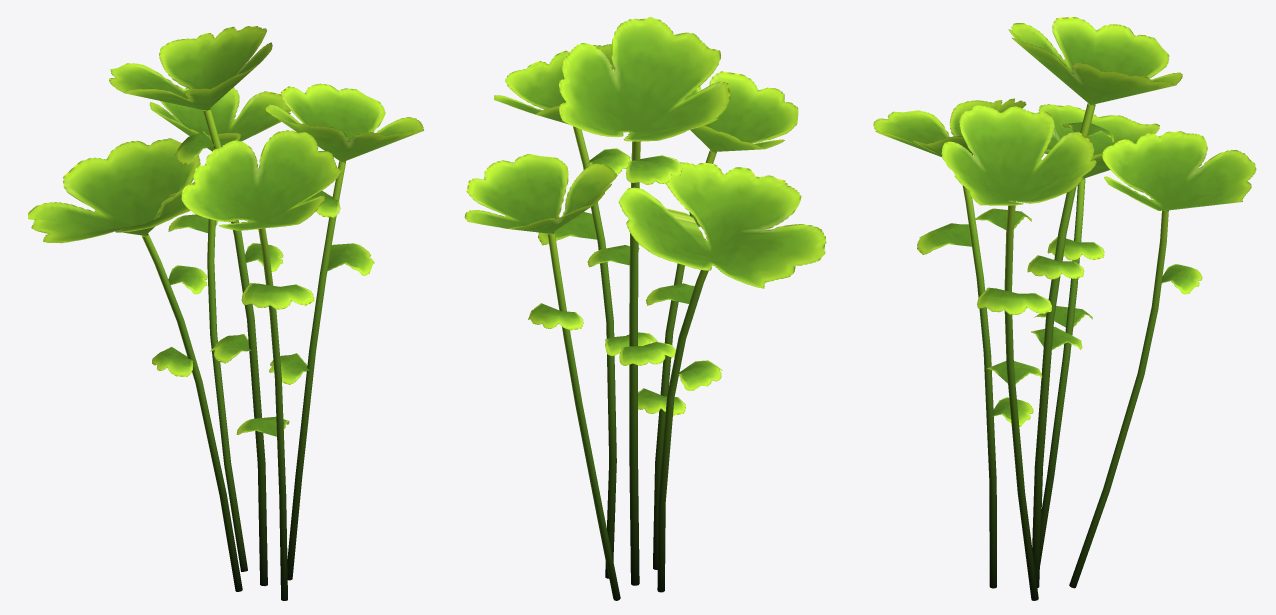
Rendered from clover_2.glb.
The picture shows the model from 3 angles, left to right: view 1: azimuth 30°, elevation 25°; view 2: azimuth 150°, elevation 25°; view 3: azimuth 270°, elevation 25°; orthographic projection. The views are drawn at different scales.
Parts seen in each view (by area): view 1: Clover_2; view 2: Clover_2; view 3: Clover_2.
Part boxes in pixels (x1,y1,x2,y2): Clover_2: [28, 26, 423, 600]; Clover_2: [464, 17, 826, 600]; Clover_2: [873, 17, 1256, 600].
Size of the model in its own units: 0.8511 by 1.26 by 0.8366.
1 material, 1 textured.
